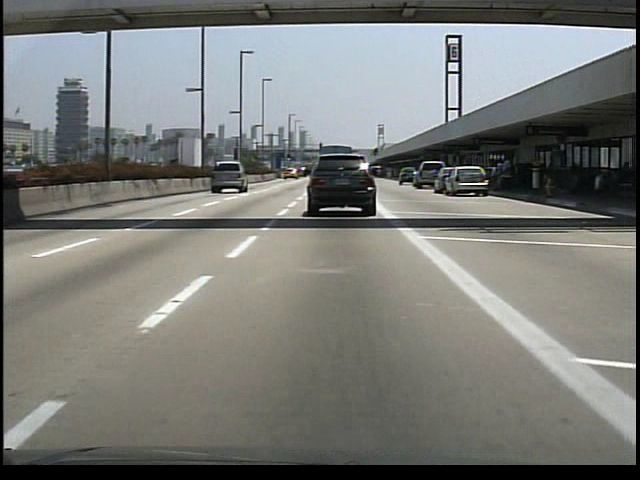person: (498, 153, 520, 193), (488, 158, 503, 192)
